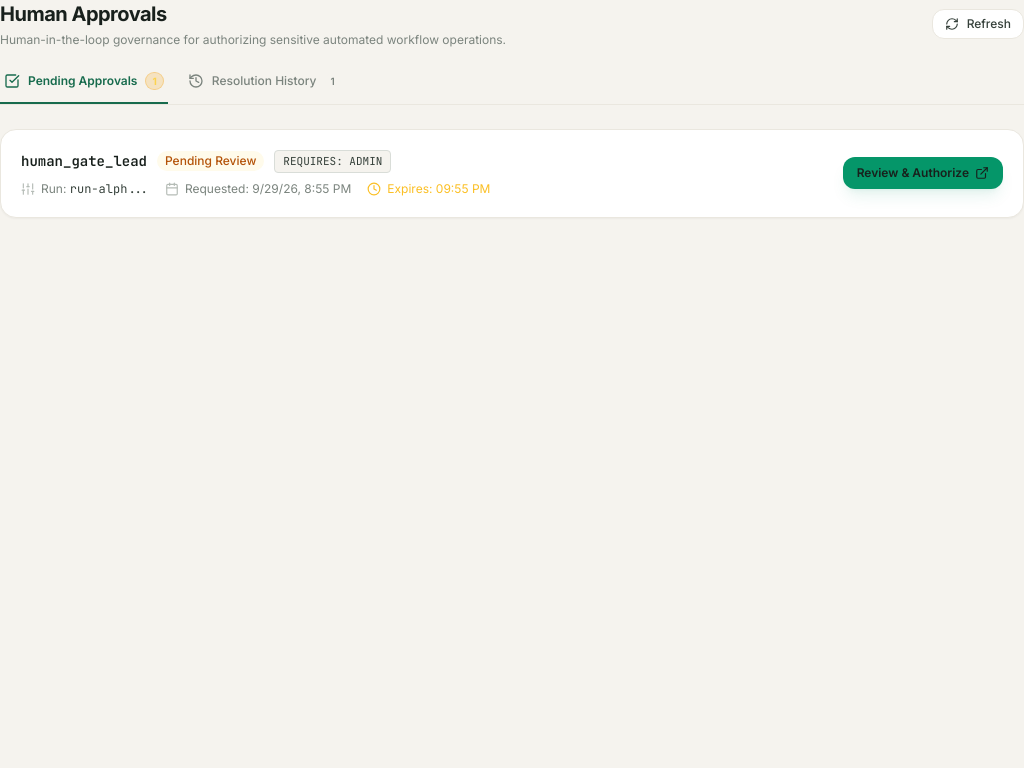
Approvals Module Tests › opens approval action modal with context snapshot
This screenshot has width=1024, height=768.
Expected: the text "human_gate_lead" is shown, [21,151,147,171]
Click the button "Review & Authorize": (923, 173) [843,157,1003,189]
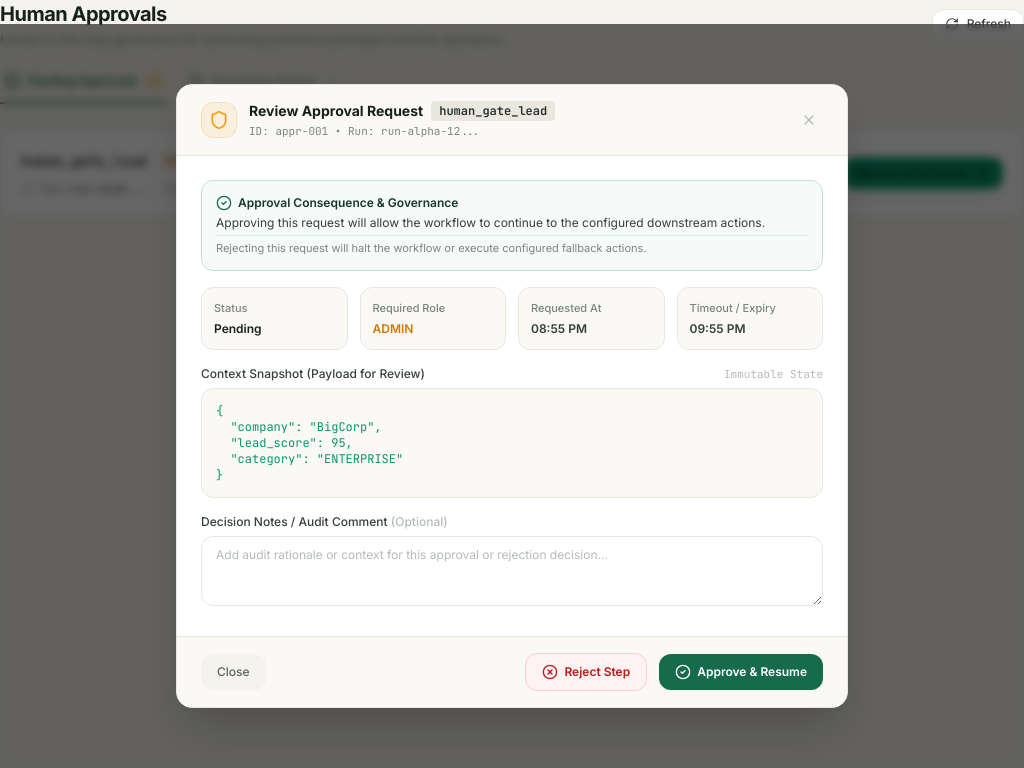
Expected: the text "Review Approval Request" is shown, [249,101,423,121]
Expected: the text "ENTERPRISE" is shown, [216,403,403,483]
